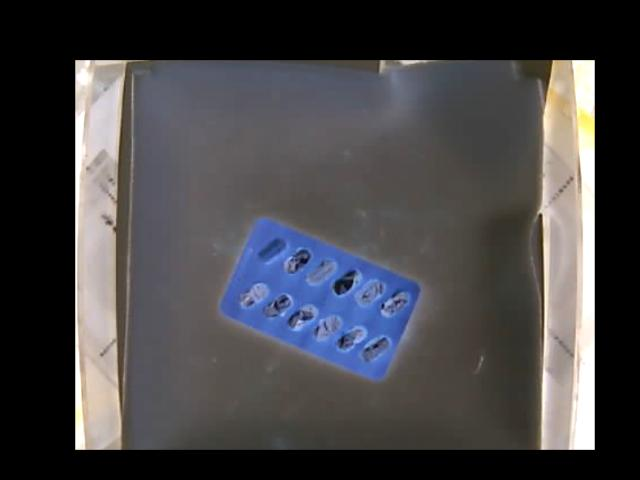Medicine: (221, 220, 419, 380)
